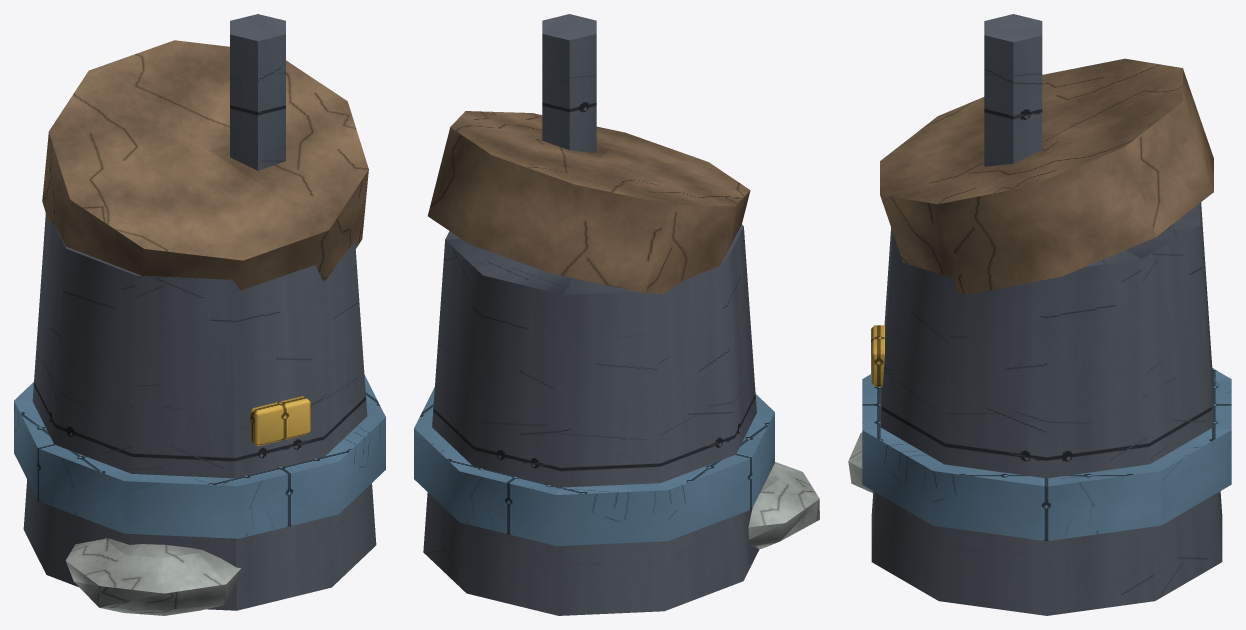
File: sensor_housing.glb
3 renders of one model, left to right at view 1: azimuth 30°, elevation 25°; view 2: azimuth 150°, elevation 25°; view 3: azimuth 270°, elevation 25°, orthographic. The views are drawn at different scales.
Parts seen in each view (by area): view 1: DL010_SensorHousing_metal_dark, DL010_SensorHousing_corrosion, DL010_SensorHousing_faded_blue, DL010_SensorHousing_mineral, DL010_SensorHousing_amber_accent; view 2: DL010_SensorHousing_metal_dark, DL010_SensorHousing_corrosion, DL010_SensorHousing_faded_blue, DL010_SensorHousing_mineral; view 3: DL010_SensorHousing_metal_dark, DL010_SensorHousing_corrosion, DL010_SensorHousing_faded_blue, DL010_SensorHousing_amber_accent, DL010_SensorHousing_mineral.
Part boxes in pixels (left/top/right/bottom): DL010_SensorHousing_metal_dark: left=23, top=14, right=376, bottom=610; DL010_SensorHousing_corrosion: left=42, top=40, right=368, bottom=290; DL010_SensorHousing_faded_blue: left=14, top=375, right=385, bottom=538; DL010_SensorHousing_mineral: left=65, top=538, right=241, bottom=615; DL010_SensorHousing_amber_accent: left=250, top=396, right=310, bottom=446; DL010_SensorHousing_metal_dark: left=423, top=14, right=759, bottom=615; DL010_SensorHousing_corrosion: left=427, top=111, right=750, bottom=293; DL010_SensorHousing_faded_blue: left=414, top=387, right=774, bottom=545; DL010_SensorHousing_mineral: left=748, top=462, right=819, bottom=549; DL010_SensorHousing_metal_dark: left=871, top=14, right=1222, bottom=615; DL010_SensorHousing_corrosion: left=880, top=58, right=1213, bottom=294; DL010_SensorHousing_faded_blue: left=862, top=368, right=1231, bottom=541; DL010_SensorHousing_amber_accent: left=871, top=325, right=884, bottom=386; DL010_SensorHousing_mineral: left=848, top=432, right=873, bottom=492.
Bounding box in the file's own units: 1.18 × 1.77 × 1.14.
5 materials, 5 textured.
